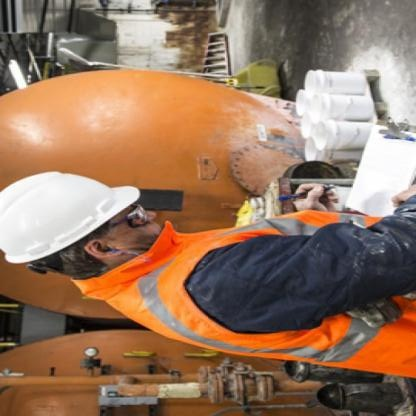vest: (100, 207, 412, 385)
white: (1, 166, 143, 272)
